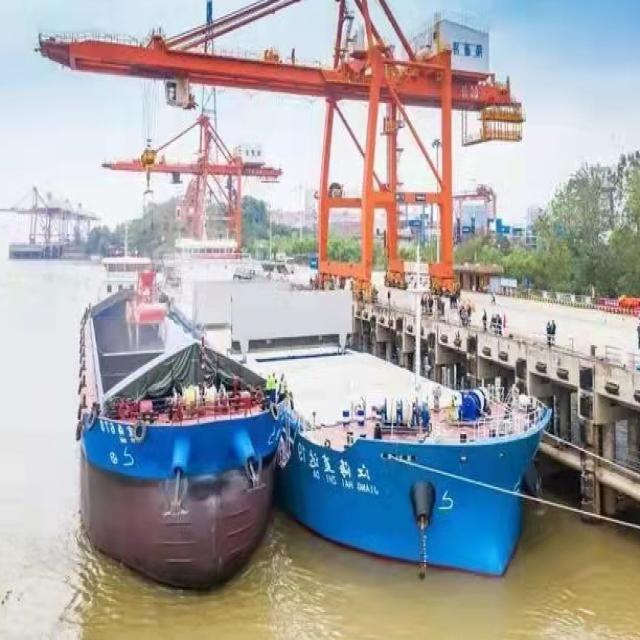cargoship: (248, 300, 550, 576), (65, 254, 271, 601)
